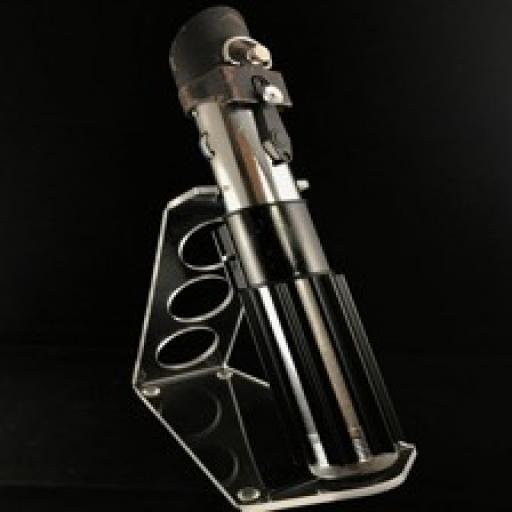lightsaber: (160, 4, 408, 478)
